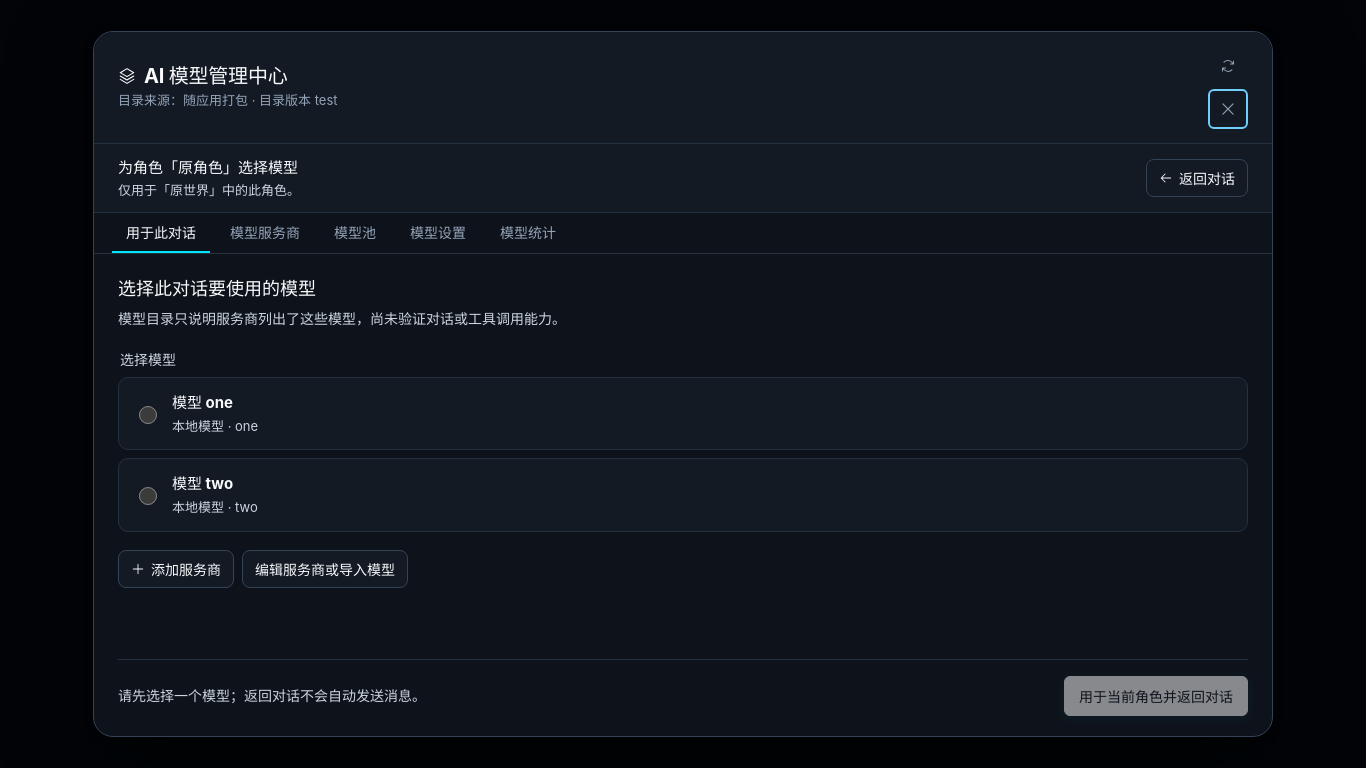
Scenario: provider wizard request ownership › keeps a failed import on the same saved provider and never preselects its eventual handoff
Click the button "添加服务商": {"x": 176, "y": 569} [118,550,234,588]
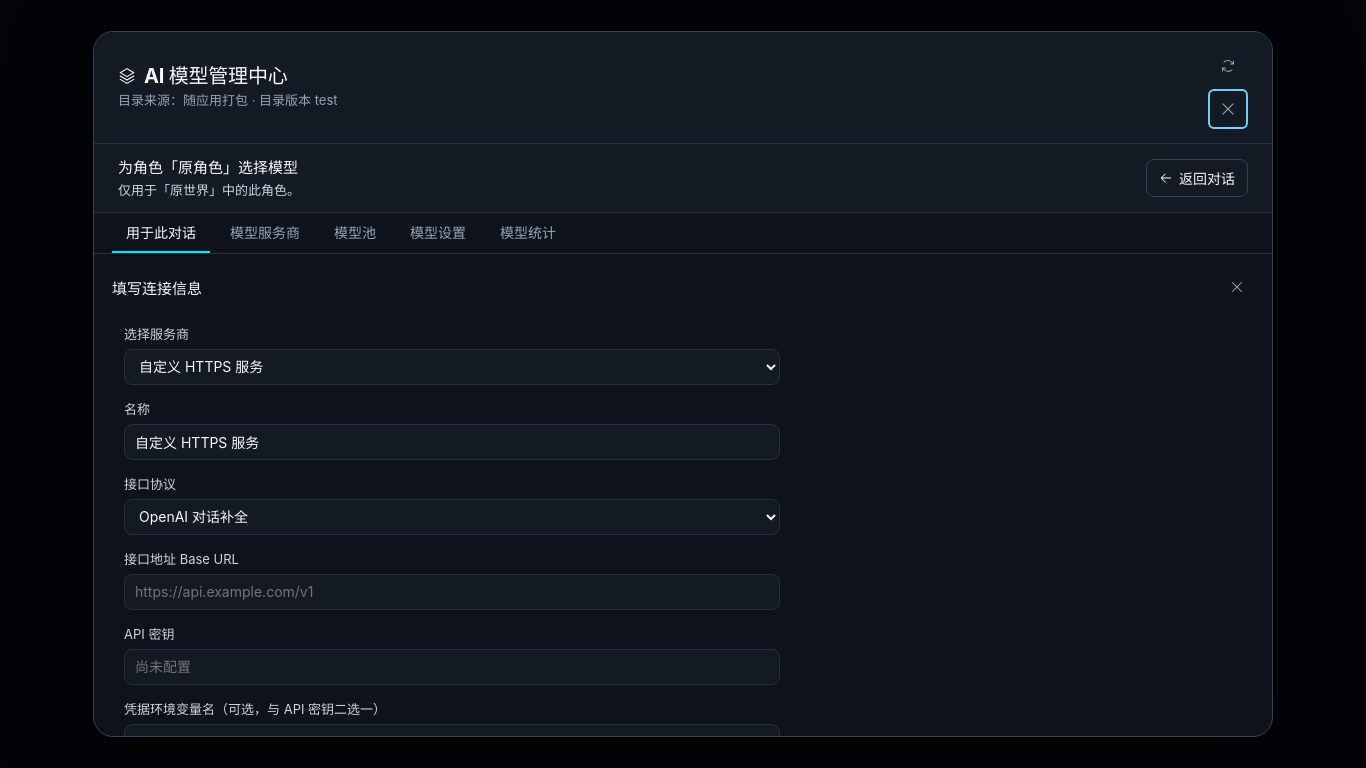
Select "本机 / 局域网推理服务" in the dropdown labelled "选择服务商": {"x": 452, "y": 367} [124,349,780,385]
(page scrolled)
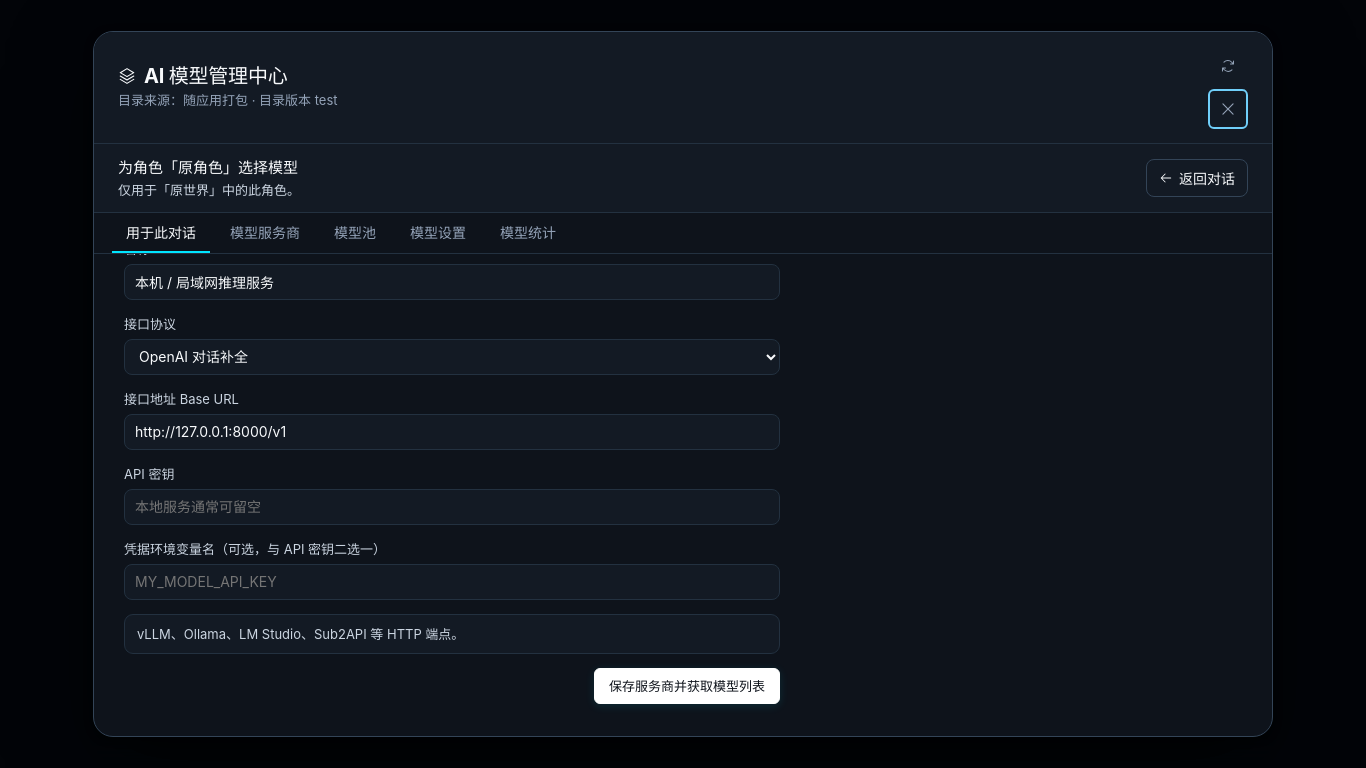
Result: the button "保存服务商并获取模型列表" is shown
Click the button "保存服务商并获取模型列表": {"x": 687, "y": 686} [594,668,780,704]
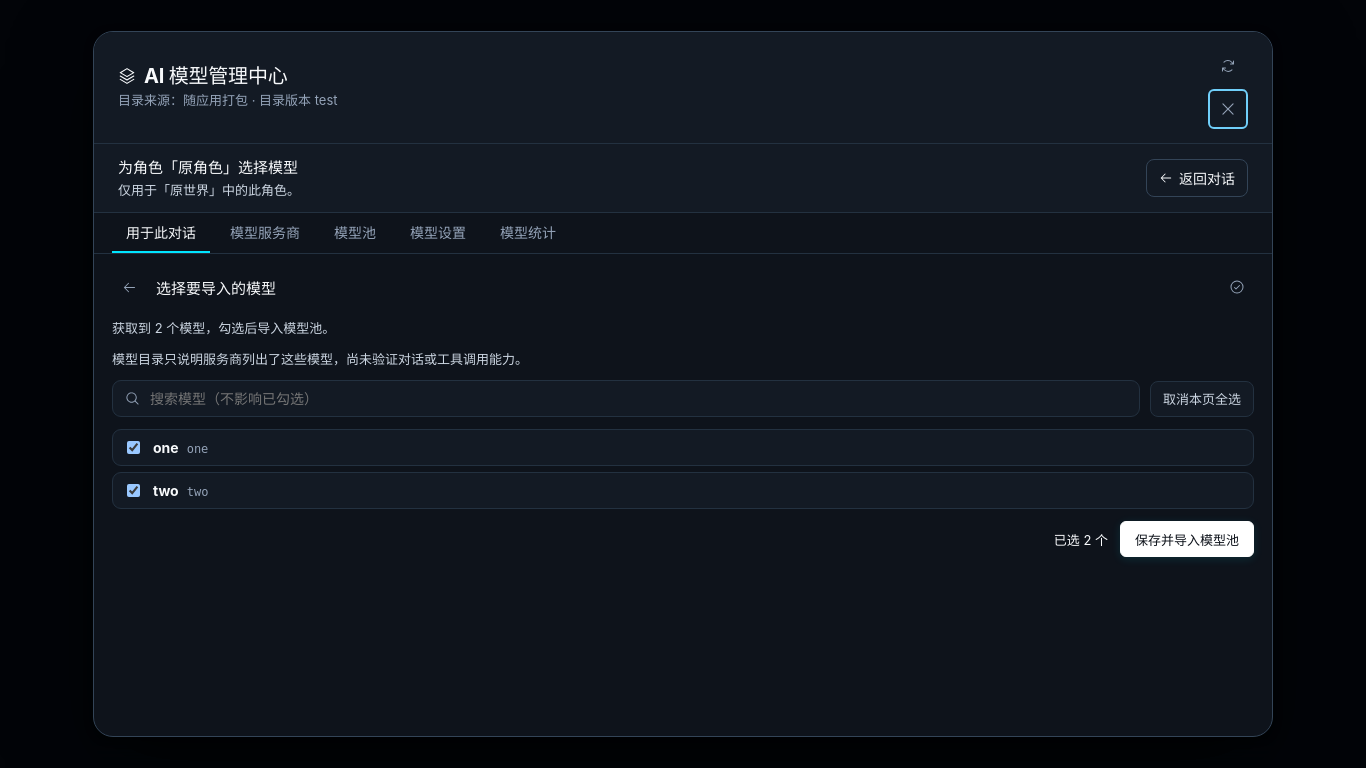
Result: the button "保存并导入模型池" is shown
Click the button "保存并导入模型池": {"x": 1187, "y": 539} [1120,521,1254,557]
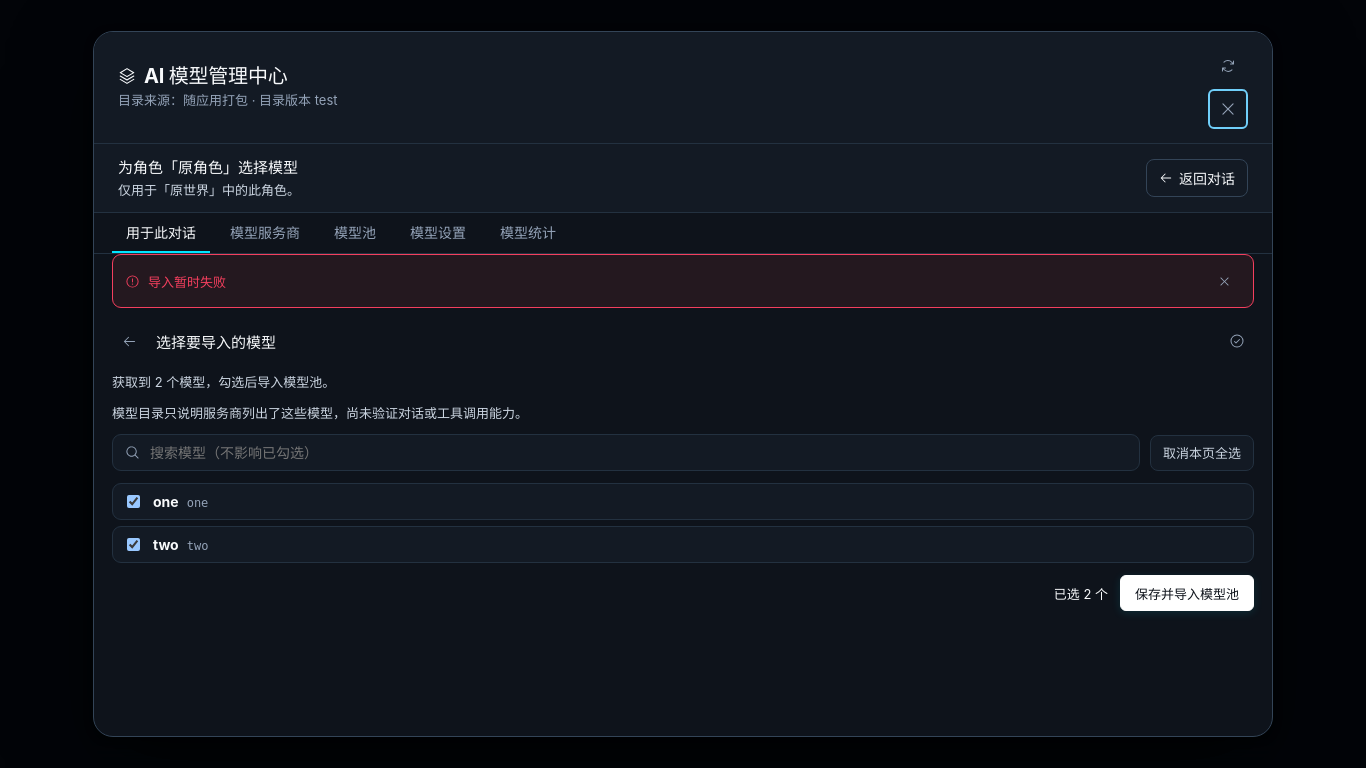
Result: the element with class "model-hub__wizard" is shown at [94,308,1272,736]
Result: the button "保存并导入模型池" is shown
Result: the message "导入暂时失败" is shown at [112,254,1254,308]
Click the button "保存并导入模型池": {"x": 1187, "y": 593} [1120,575,1254,611]
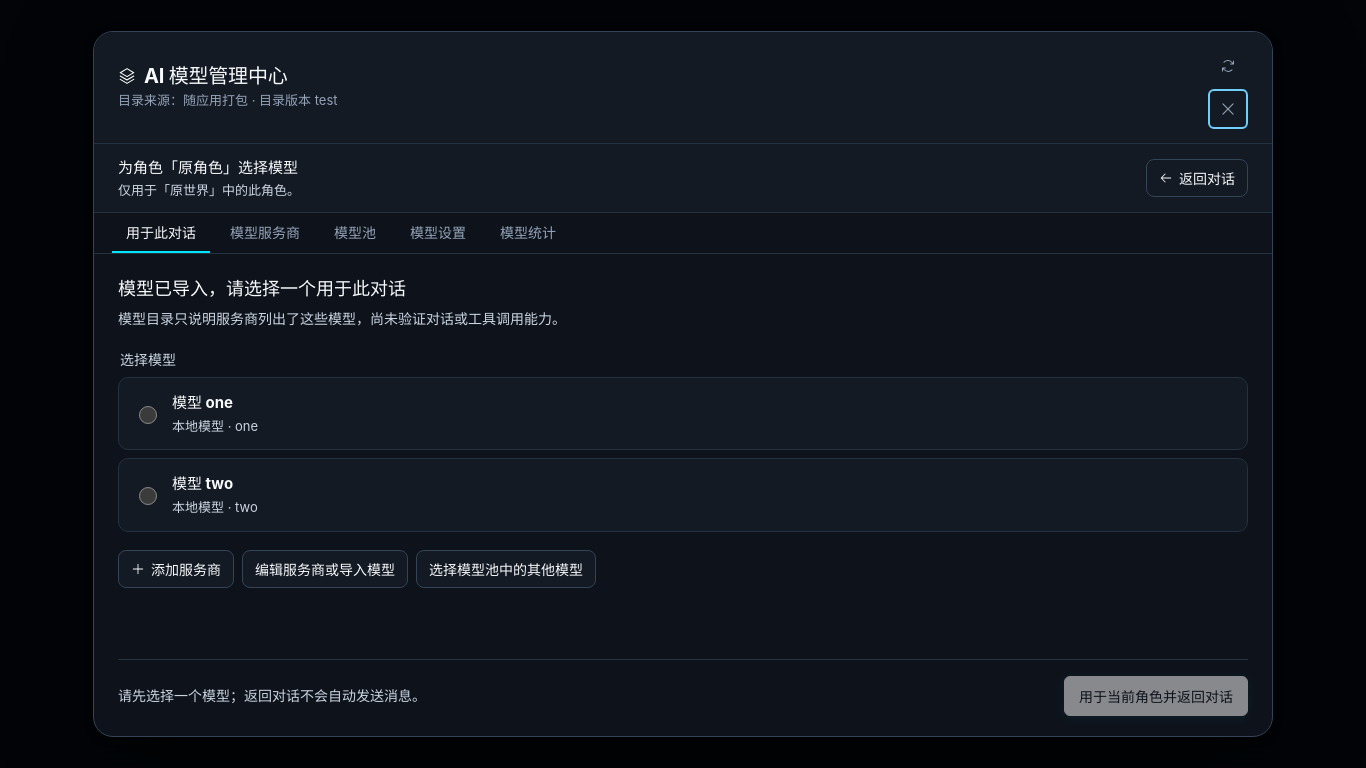
Result: the button "用于当前角色并返回对话" is disabled at [1064,676,1248,716]
